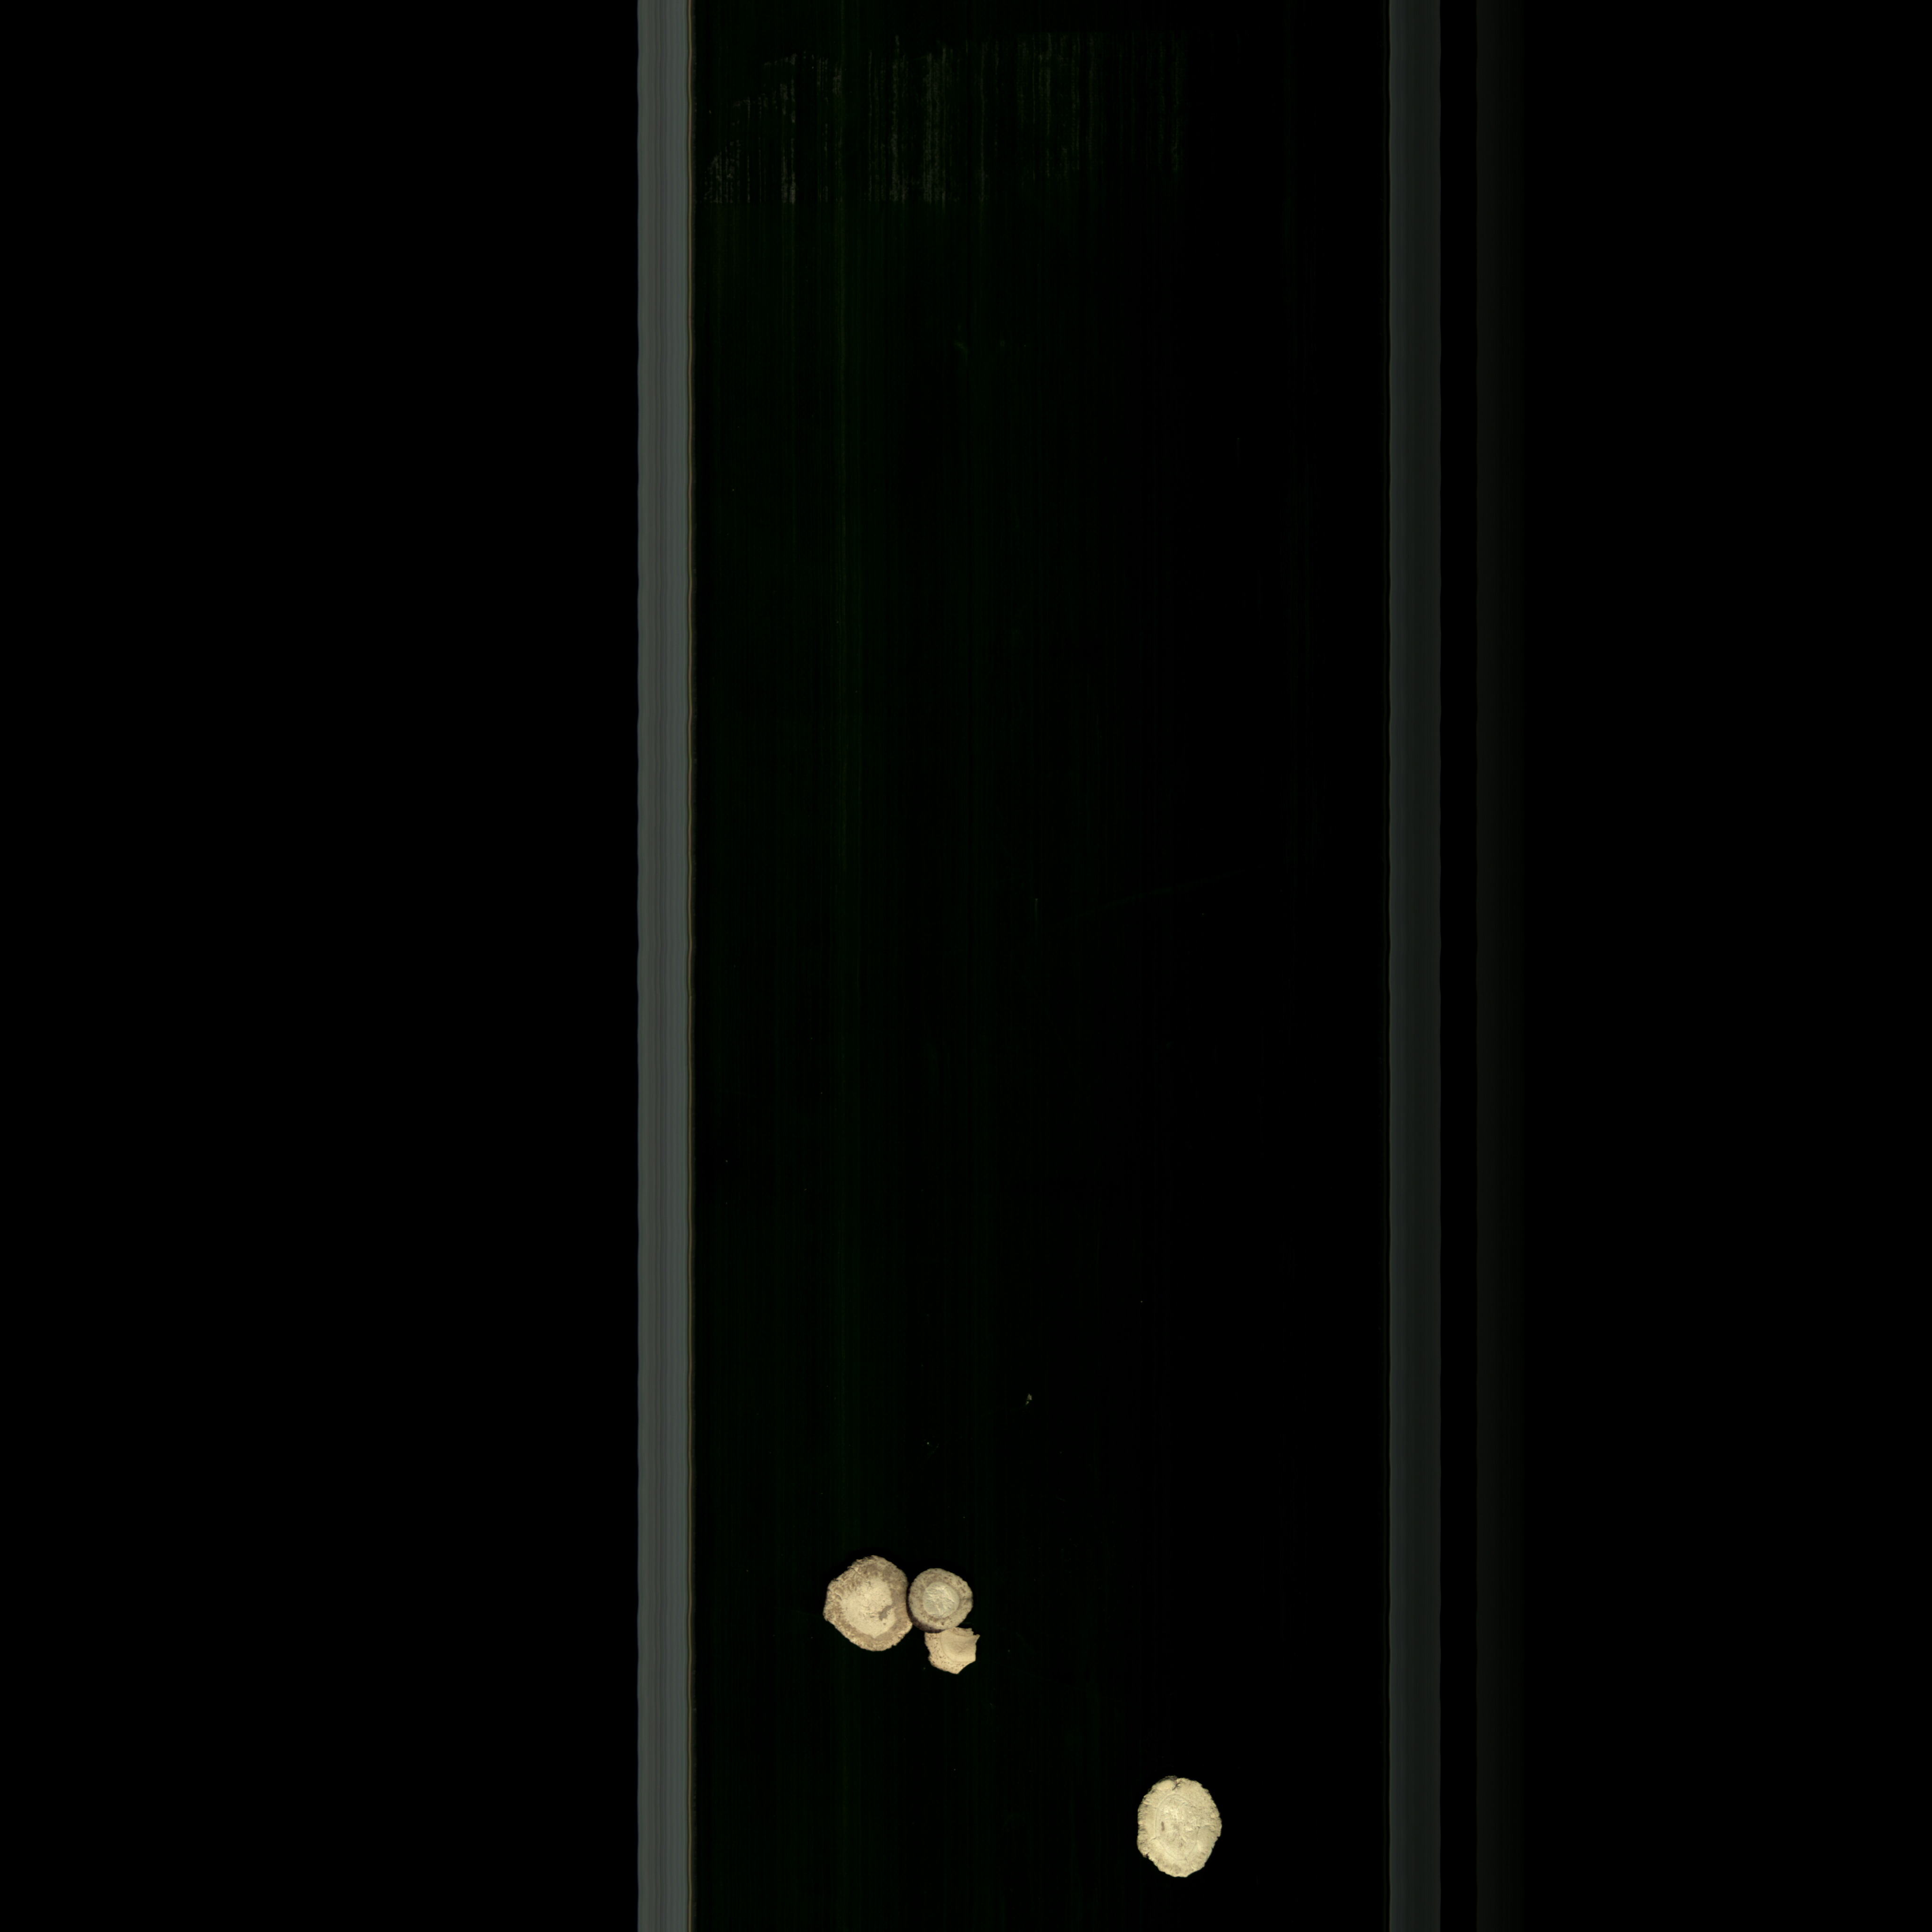debris: (1118, 1767, 1235, 1890)
dreg: (924, 1626, 994, 1683)
moldy: (812, 1553, 916, 1658)
